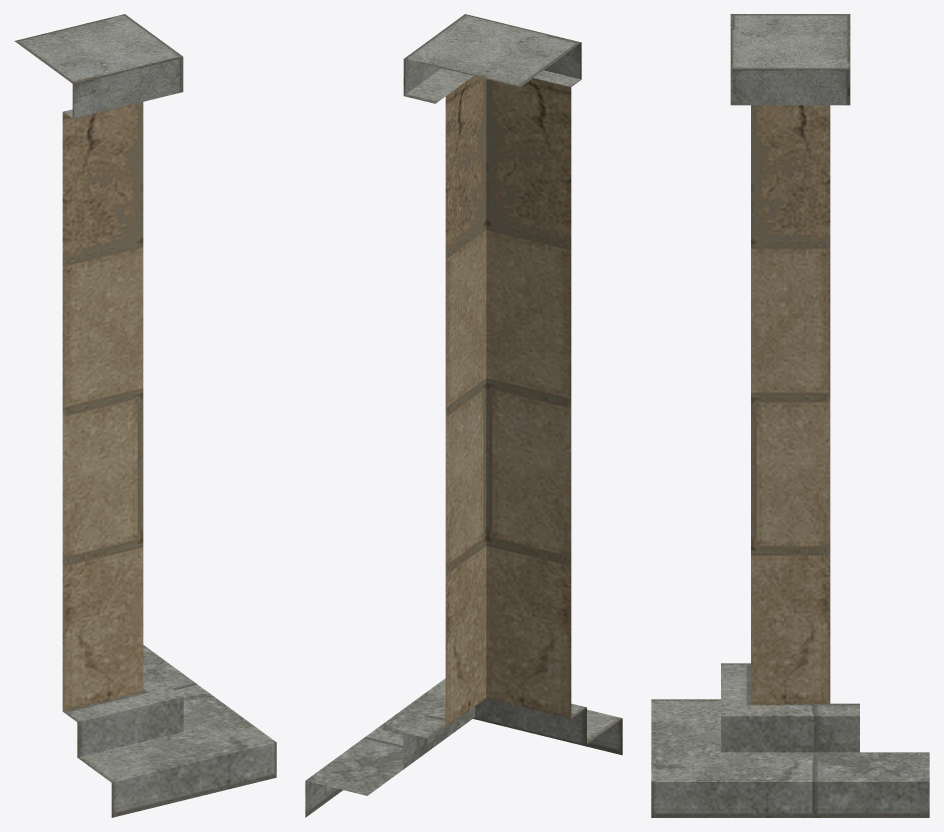
Rendered from arch_cnr_R.fbx.
3 views of the same model, side by side, from view 1: azimuth 30°, elevation 25°; view 2: azimuth 150°, elevation 25°; view 3: azimuth 270°, elevation 25° (orthographic). The views are drawn at different scales.
Parts seen in each view (by area): view 1: arch_cnr_R; view 2: arch_cnr_R; view 3: arch_cnr_R.
Part boxes in pixels (x1,y1,x2,y2): arch_cnr_R: (14, 14, 276, 817); arch_cnr_R: (305, 14, 622, 817); arch_cnr_R: (651, 14, 929, 817).
Bounding box in the file's own units: 49 × 200 × 70.
